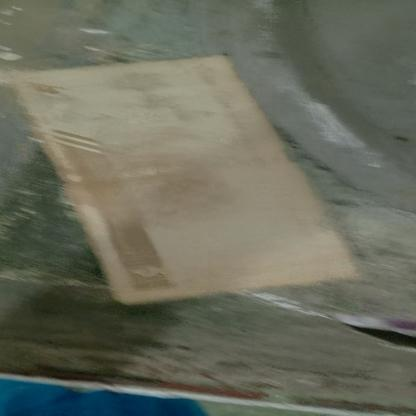five-back-vef: (12, 53, 356, 305)
